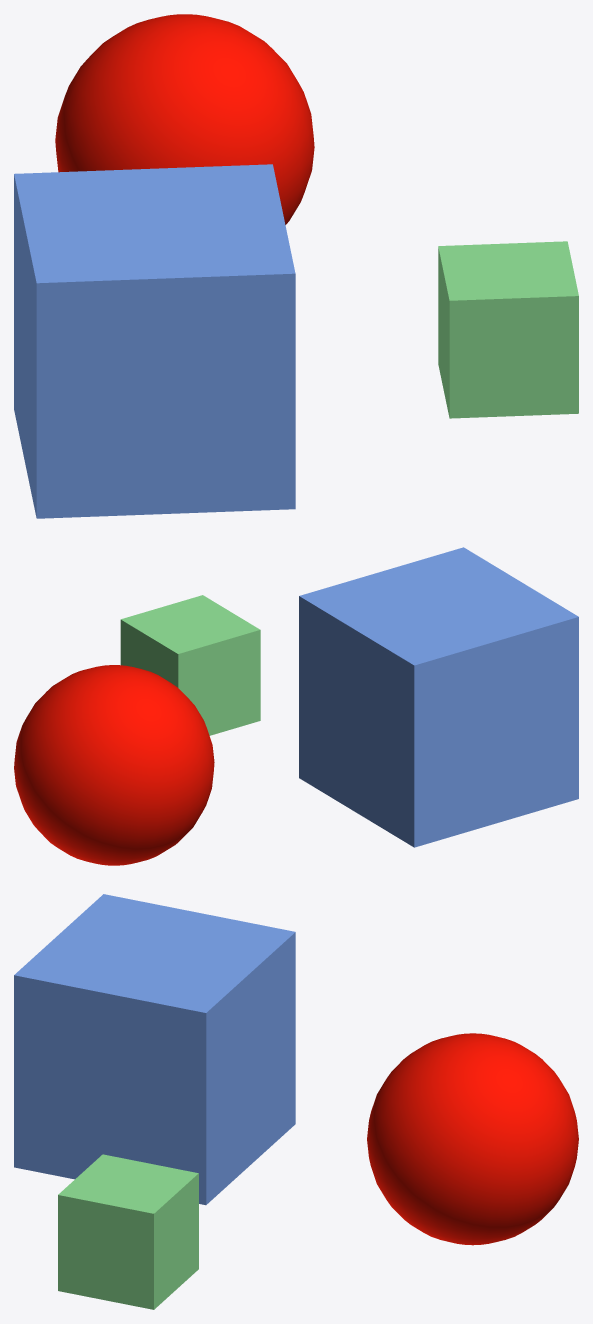
File: testScene.dae
The picture shows the model from 3 angles, top to bottom: view 1: azimuth 30°, elevation 25°; view 2: azimuth 150°, elevation 25°; view 3: azimuth 270°, elevation 25°; orthographic projection. The views are drawn at different scales.
Visible parts, largest first — view 1: Cube, Sphere, Cube_001; view 2: Cube, Sphere, Cube_001; view 3: Cube, Sphere, Cube_001.
Part boxes in pixels (left/top/right/bottom): Cube: left=14, top=164, right=295, bottom=518; Sphere: left=55, top=14, right=314, bottom=224; Cube_001: left=438, top=241, right=578, bottom=418; Cube: left=299, top=547, right=578, bottom=847; Sphere: left=14, top=665, right=214, bottom=865; Cube_001: left=120, top=595, right=260, bottom=735; Cube: left=14, top=894, right=295, bottom=1205; Sphere: left=367, top=1033, right=578, bottom=1245; Cube_001: left=58, top=1154, right=198, bottom=1309.
Size of what is drawn, in the model's own units: 2.5 by 2.66 by 1.
